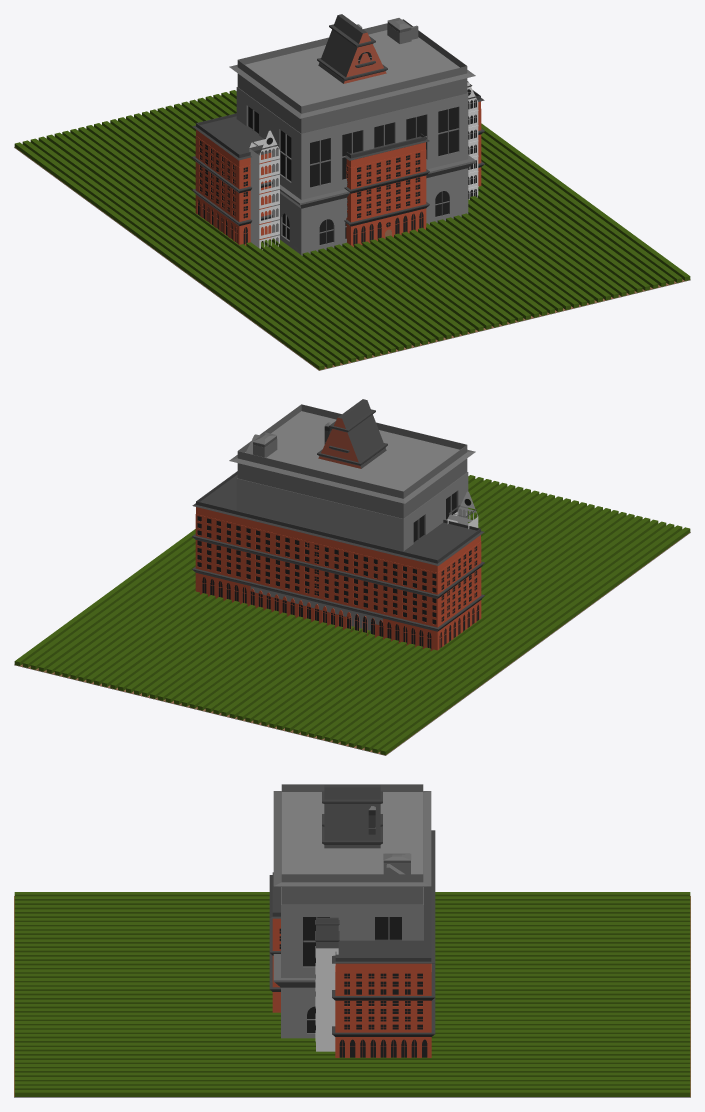
Rendered from euro.glb.
The picture shows the model from 3 angles, top to bottom: view 1: azimuth 30°, elevation 25°; view 2: azimuth 150°, elevation 25°; view 3: azimuth 270°, elevation 25°; orthographic projection. The views are drawn at different scales.
Parts seen in each view (by area): view 1: field, museum_a, brick_works, townhouse_a; view 2: field, brick_works, museum_a, townhouse_a; view 3: field, museum_a, brick_works, townhouse_a.
Boxes of the visible parts, <box> form: field: <box>14,90,690,370</box>; museum_a: <box>229,18,475,255</box>; brick_works: <box>192,81,484,249</box>; townhouse_a: <box>317,14,387,83</box>; field: <box>14,475,690,755</box>; brick_works: <box>192,471,484,650</box>; museum_a: <box>229,404,475,632</box>; townhouse_a: <box>317,399,387,468</box>; field: <box>14,892,690,1097</box>; museum_a: <box>273,784,431,1038</box>; brick_works: <box>269,830,435,1057</box>; townhouse_a: <box>322,785,382,848</box>.
Size of the model in its own units: 8.48 by 4.14 by 12.06.
8 materials, 8 textured.
